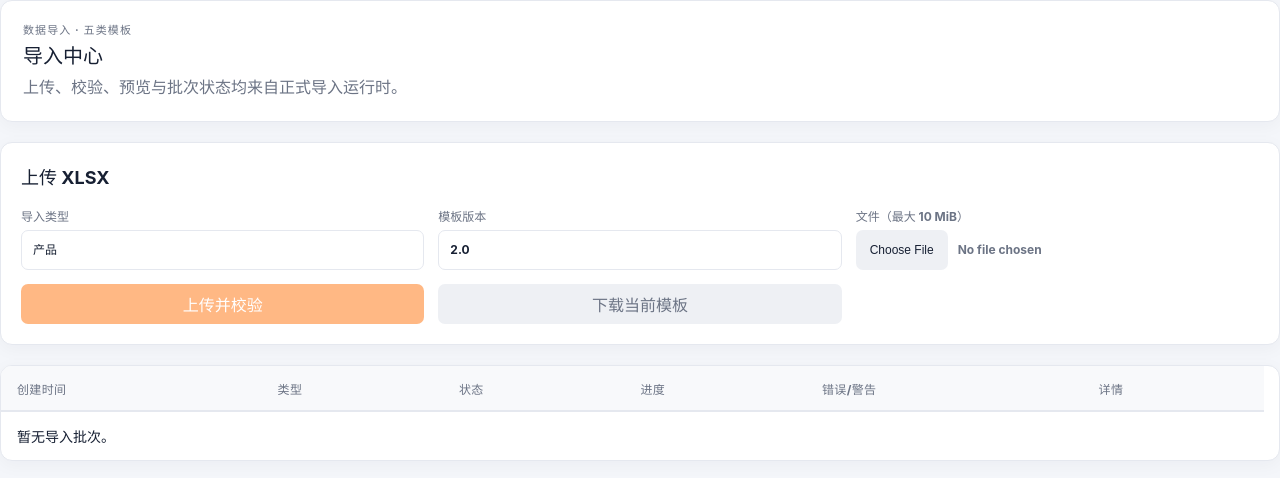
Test case: ImportsView › shows the selected type template version
Expected: the field labelled "模板版本" holds "2.0", top-left (438, 230), bottom-right (842, 270)
Select "SKU" in the dropdown labelled "导入类型" at (223, 250), box top-left (21, 230), bottom-right (424, 270)
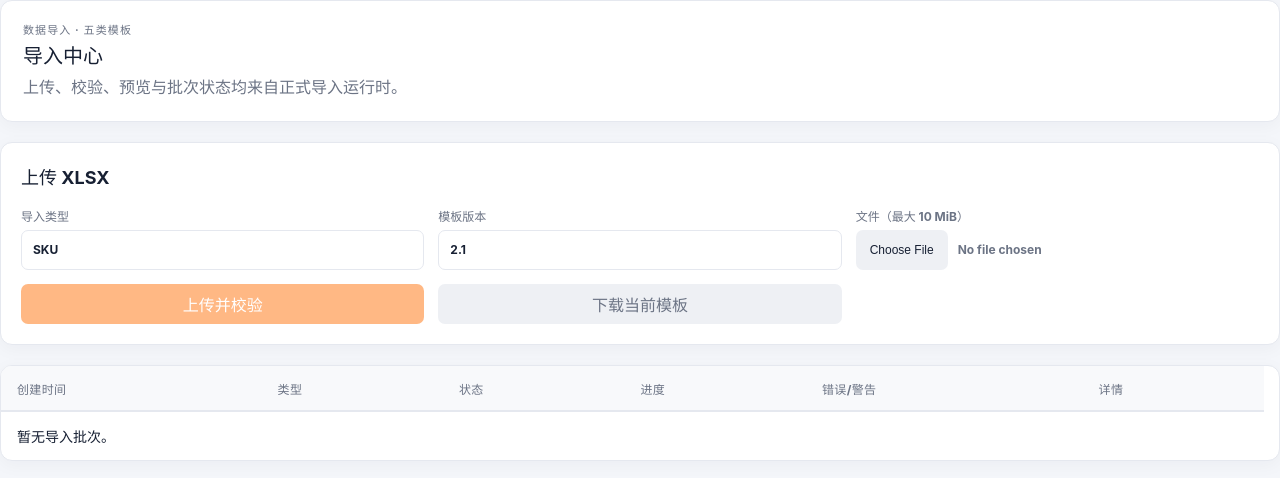
Expected: the field labelled "模板版本" holds "2.1", top-left (438, 230), bottom-right (842, 270)
Select "辅料主档" in the dropdown labelled "导入类型" at (223, 250), box top-left (21, 230), bottom-right (424, 270)
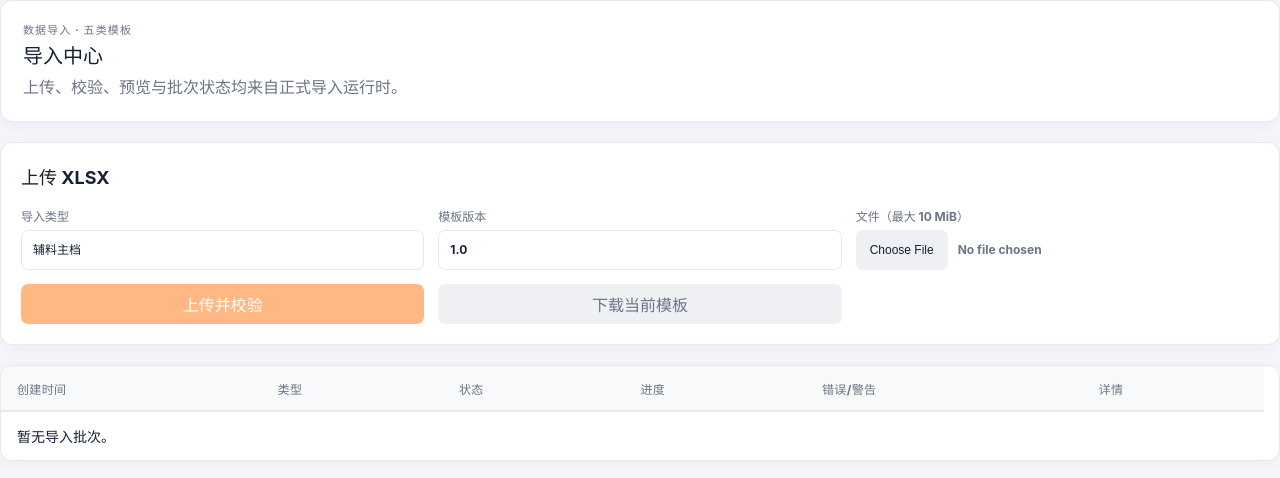
Expected: the field labelled "模板版本" holds "1.0", top-left (438, 230), bottom-right (842, 270)
